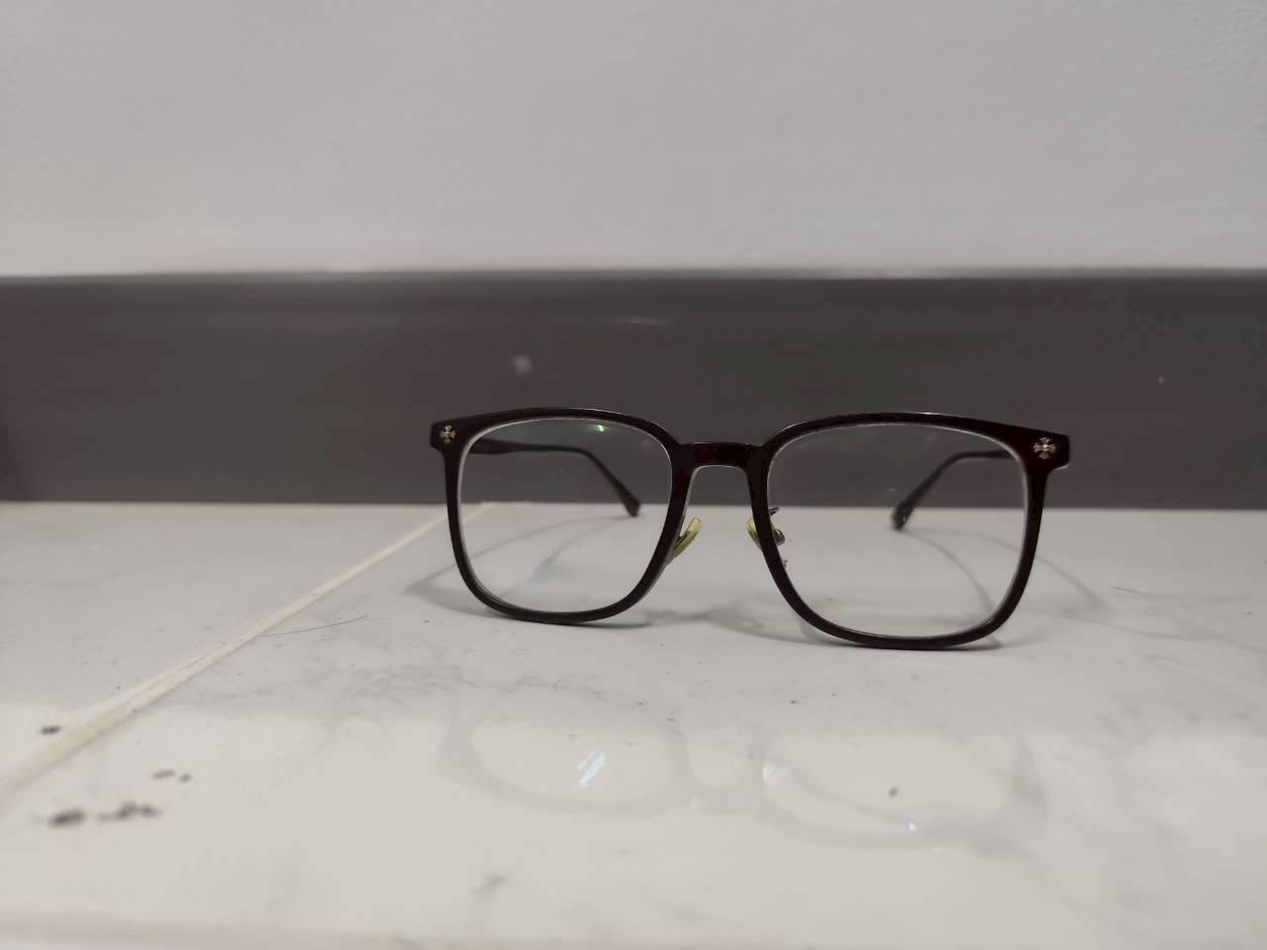glasses: (412, 391, 1090, 669)
